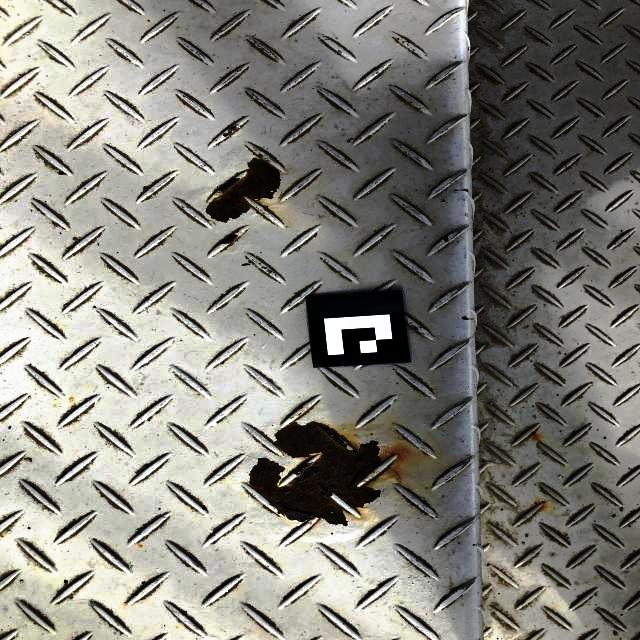Corrosion: (249, 421, 382, 526), (206, 158, 280, 223), (208, 227, 247, 254), (223, 126, 236, 137)
